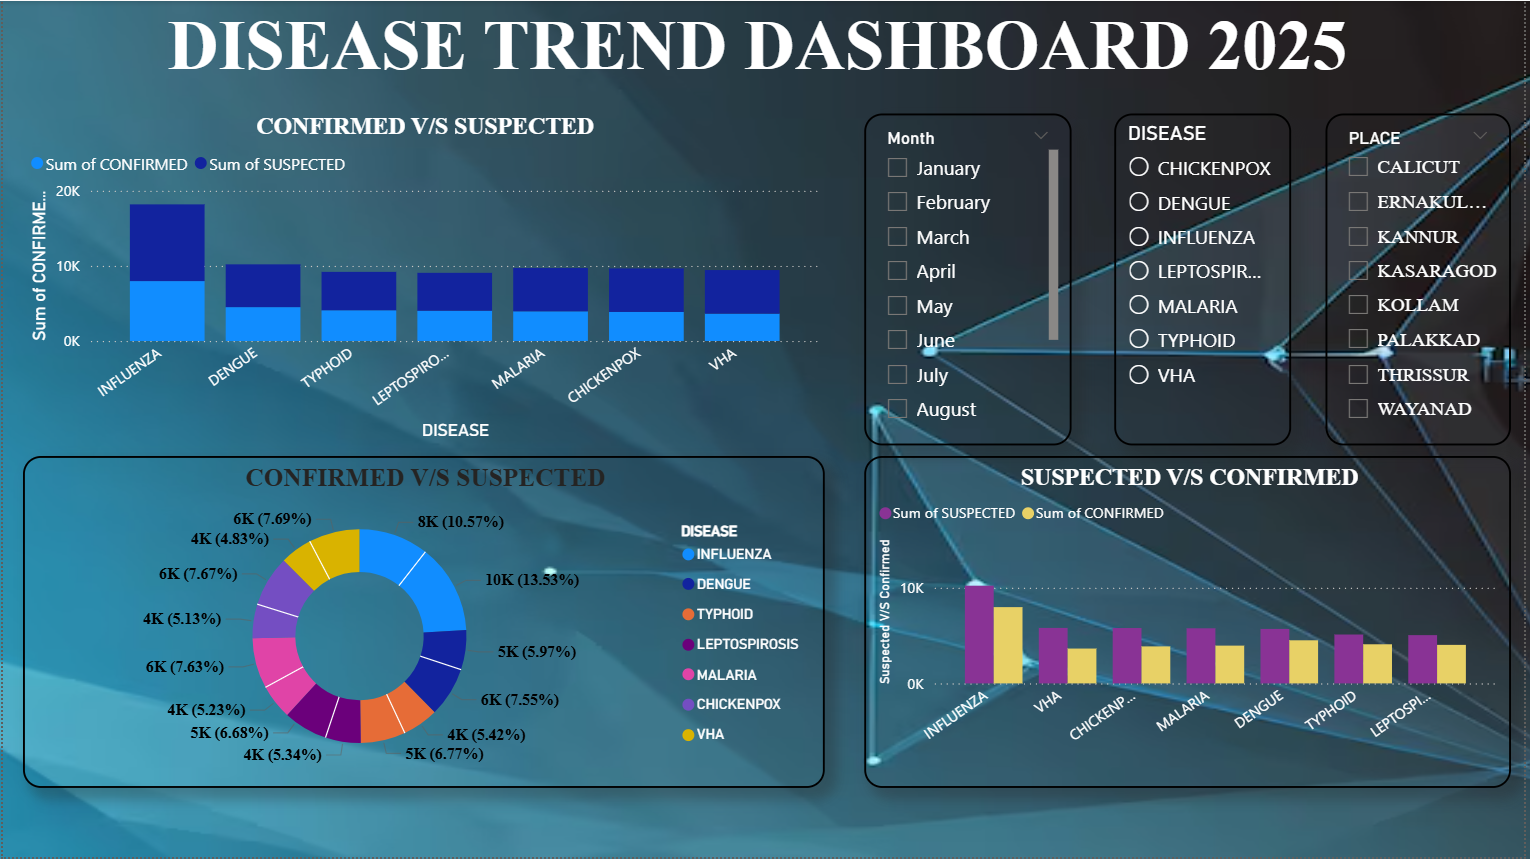

The dashboard page shown, as its layout file describes it:
{"tool":"powerbi","page":{"name":"Overview","canvas":[1280,720],"ordinal":0},"visuals":[{"type":"lineStackedColumnComboChart","title":"CONFIRMED V/S SUSPECTED","fields":{"Category":["DISEASES.DISEASE"],"Y":["Sum(DISEASES.CONFIRMED)","Sum(DISEASES.SUSPECTED)"]},"box":[17.4,94.2,674.4,279.1],"z":0},{"type":"textbox","box":[0,0,1269.3,79.6],"z":1000},{"type":"slicer","fields":{"Values":["DISEASES.MONTH.Variation.Date Hierarchy.Month"]},"box":[724.4,94.2,174.4,279.1],"z":2000},{"type":"slicer","fields":{"Values":["DISEASES.PLACE"]},"box":[1112.8,94.2,155.8,279.1],"z":3000},{"type":"listSlicer","fields":{"Values":["DISEASES.DISEASE"]},"box":[934.9,94.2,148.8,279.1],"z":4000},{"type":"donutChart","title":"CONFIRMED V/S SUSPECTED","fields":{"Y":["Sum(DISEASES.CONFIRMED)","Sum(DISEASES.SUSPECTED)"],"Category":["DISEASES.DISEASE"]},"box":[17,383,674,279],"z":5000},{"type":"clusteredColumnChart","title":"SUSPECTED V/S CONFIRMED","fields":{"Category":["DISEASES.DISEASE"],"Y":["Sum(DISEASES.SUSPECTED)","Sum(DISEASES.CONFIRMED)"]},"box":[724.4,382.6,544.2,279.1],"z":6000}]}

Visuals, with their boxes in screenshot pixels (x1, y1, x2, y2), scaled from the page's 1280x720 canvas onto the 1530x859 screenshot:
"CONFIRMED V/S SUSPECTED" lineStackedColumnComboChart: BBox(21, 112, 827, 445)
textbox: BBox(0, 0, 1517, 95)
slicer - DISEASES.MONTH.Variation.Date Hierarchy.Month: BBox(866, 112, 1074, 445)
slicer - DISEASES.PLACE: BBox(1330, 112, 1516, 445)
listSlicer - DISEASES.DISEASE: BBox(1117, 112, 1295, 445)
"CONFIRMED V/S SUSPECTED" donutChart: BBox(20, 457, 826, 790)
"SUSPECTED V/S CONFIRMED" clusteredColumnChart: BBox(866, 456, 1516, 789)
